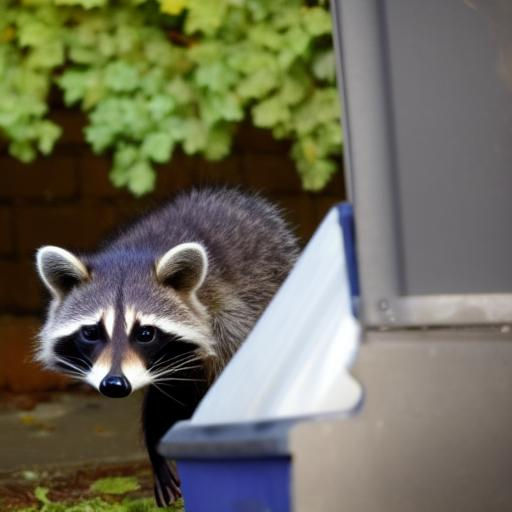raccoon: (23, 178, 311, 450)
